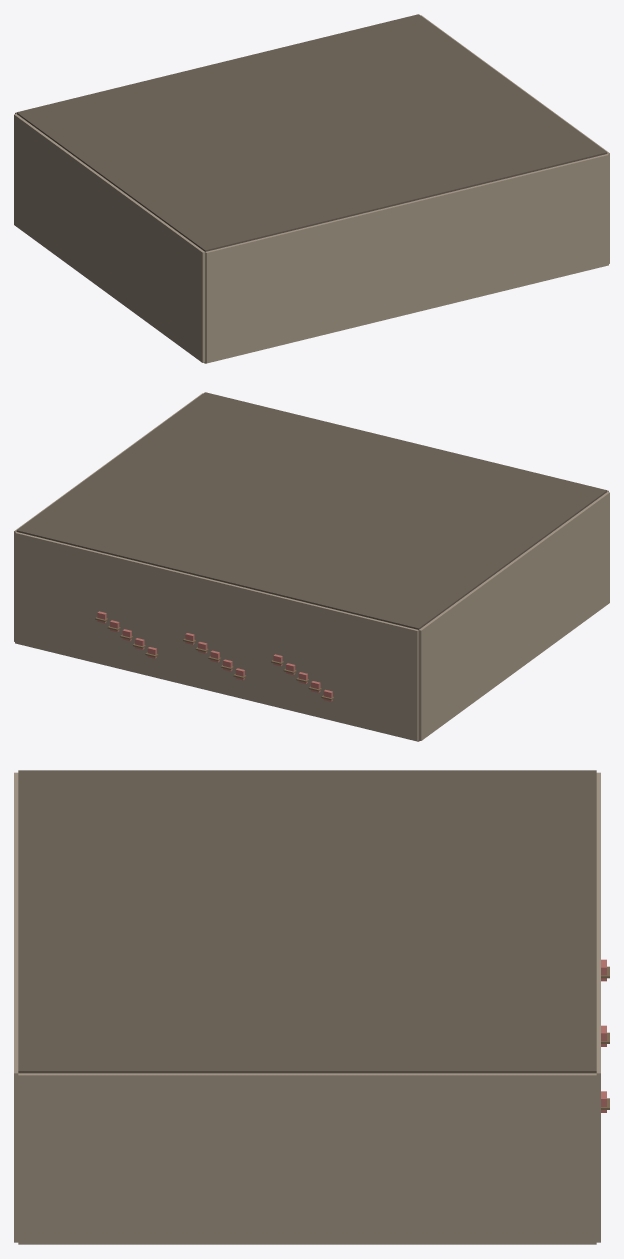
The model's file is bookshop.glb.
3 views of the same model, one above another, from view 1: azimuth 30°, elevation 25°; view 2: azimuth 150°, elevation 25°; view 3: azimuth 270°, elevation 25° (orthographic). The views are drawn at different scales.
Visible parts, largest first — view 1: ceil, wall_front, wall_left; view 2: ceil, wall_back, wall_left; view 3: ceil, wall_right, wall_back, wall_front.
Part boxes in pixels (bbox=[...]): ceil: bbox=[16, 14, 607, 251]; wall_front: bbox=[205, 154, 608, 363]; wall_left: bbox=[14, 114, 205, 362]; ceil: bbox=[16, 392, 607, 629]; wall_back: bbox=[15, 532, 418, 741]; wall_left: bbox=[418, 492, 609, 740]; ceil: bbox=[18, 770, 596, 1073]; wall_right: bbox=[18, 1073, 596, 1244]; wall_back: bbox=[596, 772, 600, 1242]; wall_front: bbox=[14, 772, 18, 1242].
Bounding box in the file's own units: 16.2 × 4.31 × 13.4.
